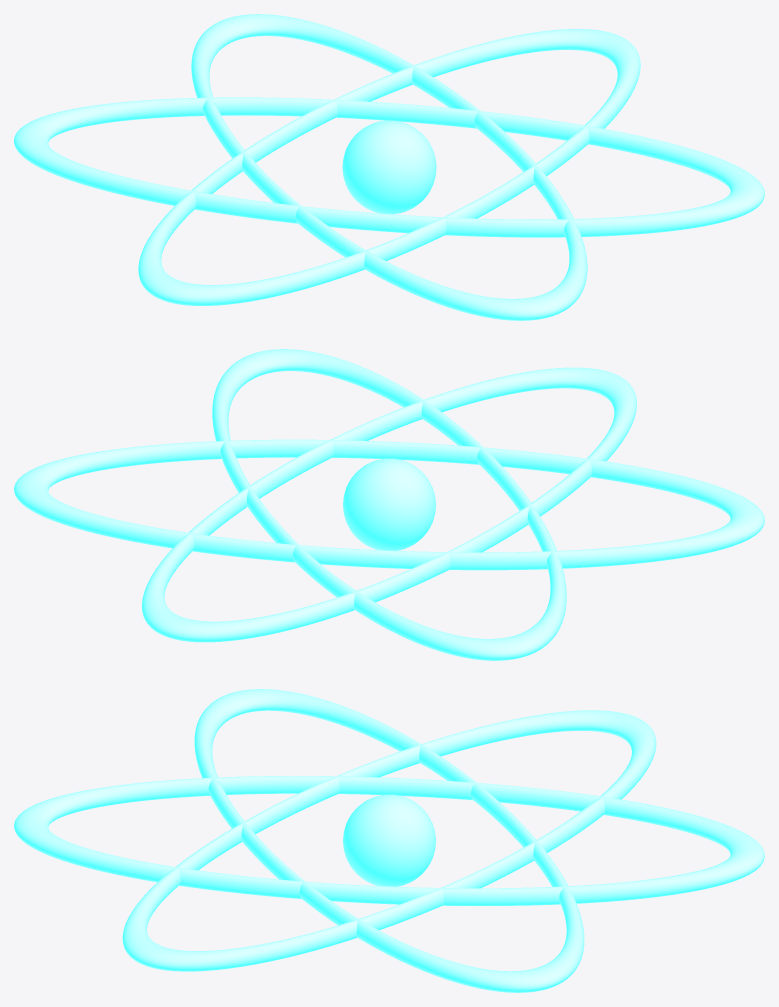
The model's file is reacter.gltf.
3 renders of one model, top to bottom at view 1: azimuth 30°, elevation 25°; view 2: azimuth 150°, elevation 25°; view 3: azimuth 270°, elevation 25°, orthographic.
Parts seen in each view (by area): view 1: Sphere; view 2: Sphere; view 3: Sphere.
Part boxes in pixels (x1,y1,x2,y2): Sphere: (14, 14, 764, 320); Sphere: (14, 349, 764, 660); Sphere: (14, 689, 764, 992).
Size of the model in its own units: 358 by 47.6 by 384.
